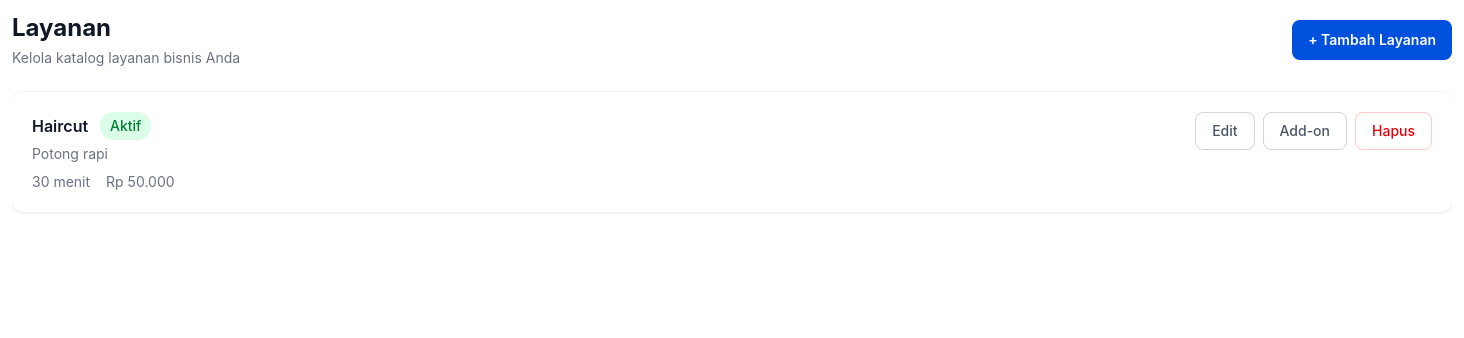
Test case: ServicesPage › add-on button opens add-on panel
Check: the heading "Haircut" is shown, box [32,114,88,138]
Click the button "Add-on": (1305, 131) [1262,112,1347,150]
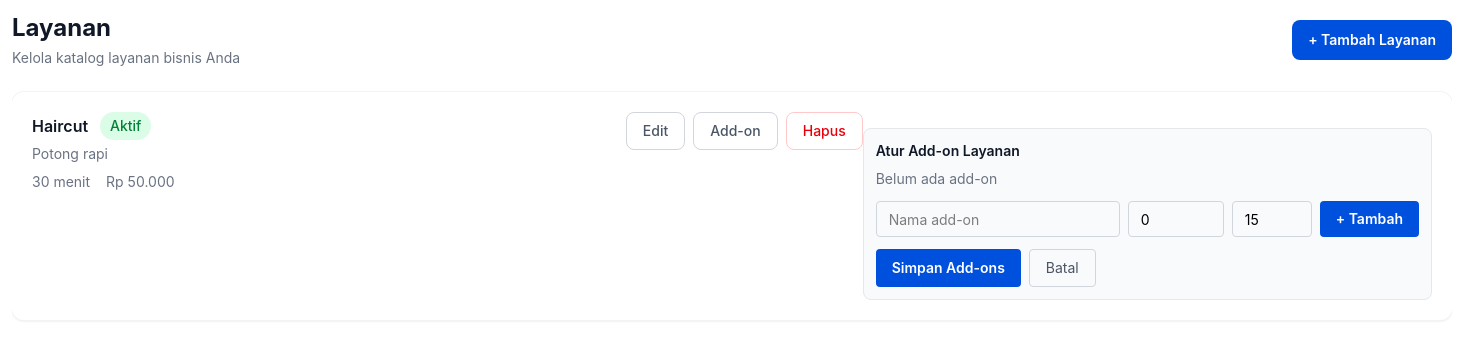
Check: the heading "Atur Add-on Layanan" is shown, box [876,142,1020,159]
Check: the text "Belum ada add-on" is shown, box [876,170,997,187]
